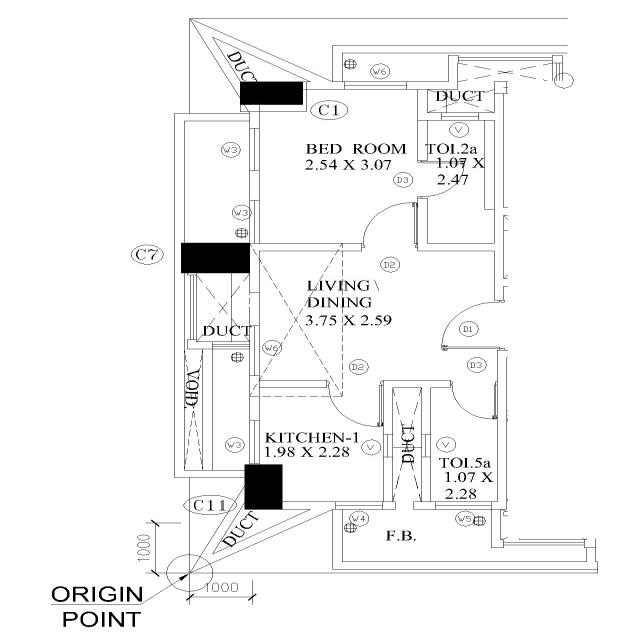Column: (179, 240, 253, 276), (242, 462, 286, 514), (237, 80, 307, 106)
Door: (358, 241, 420, 253), (494, 297, 506, 353), (325, 379, 385, 390), (416, 157, 428, 200), (448, 379, 498, 389)
Ventilator: (440, 111, 481, 122), (381, 433, 395, 458), (420, 433, 432, 461)
Window: (248, 324, 262, 378), (343, 80, 409, 91), (248, 418, 262, 466), (434, 500, 494, 511), (248, 199, 262, 245), (248, 127, 261, 173), (333, 500, 386, 511)
